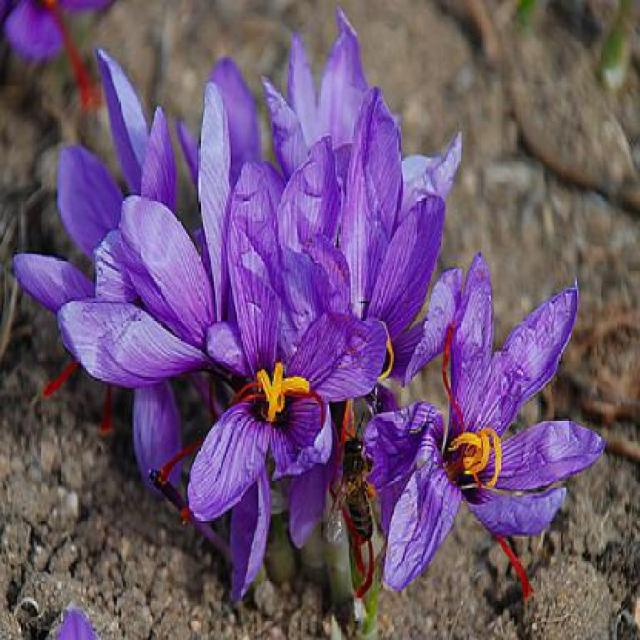Flower: (376, 270, 586, 592), (59, 104, 247, 405)
stigma: (30, 0, 106, 121), (488, 524, 536, 600), (438, 314, 468, 433), (152, 439, 198, 487)
